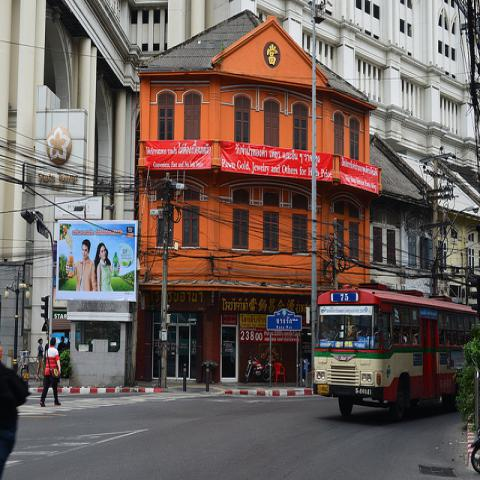bus: (312, 287, 480, 421)
motorcycle: (244, 349, 270, 384), (470, 426, 480, 476)
